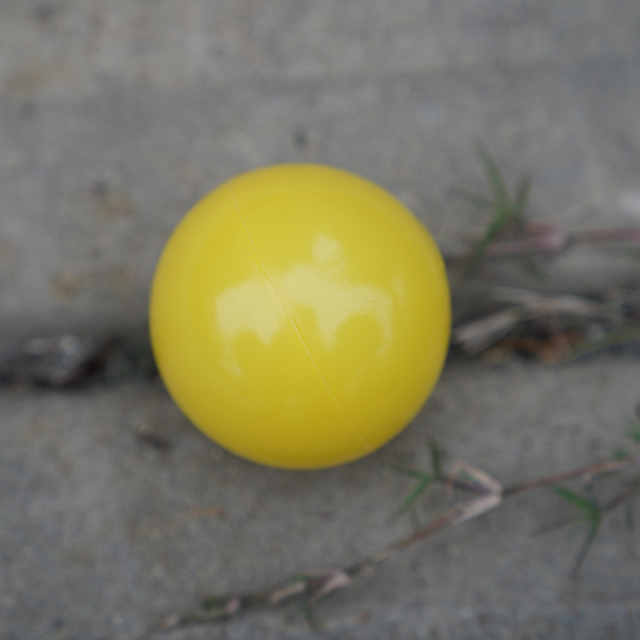Ball: (133, 171, 446, 466)
